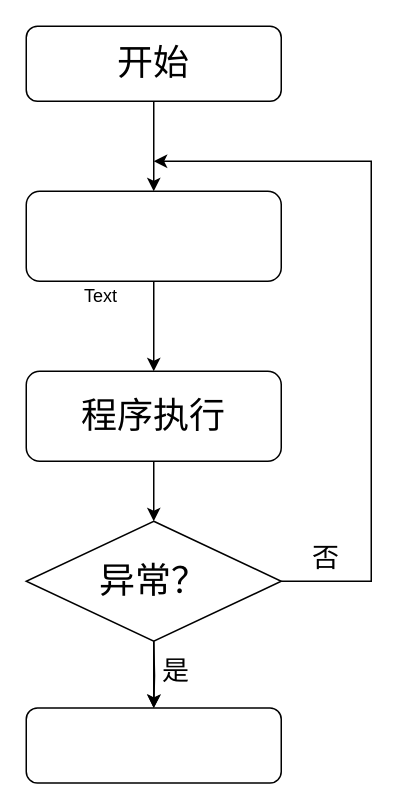
The diagram is 410 pixels wide and 810 high, and some of its shapes have lost their labels. Here are the shapes that lost their labels. From the top down, the box of each, then its label:
(25, 190, 281, 281): 测试用例 生成
(25, 706, 281, 783): bug
